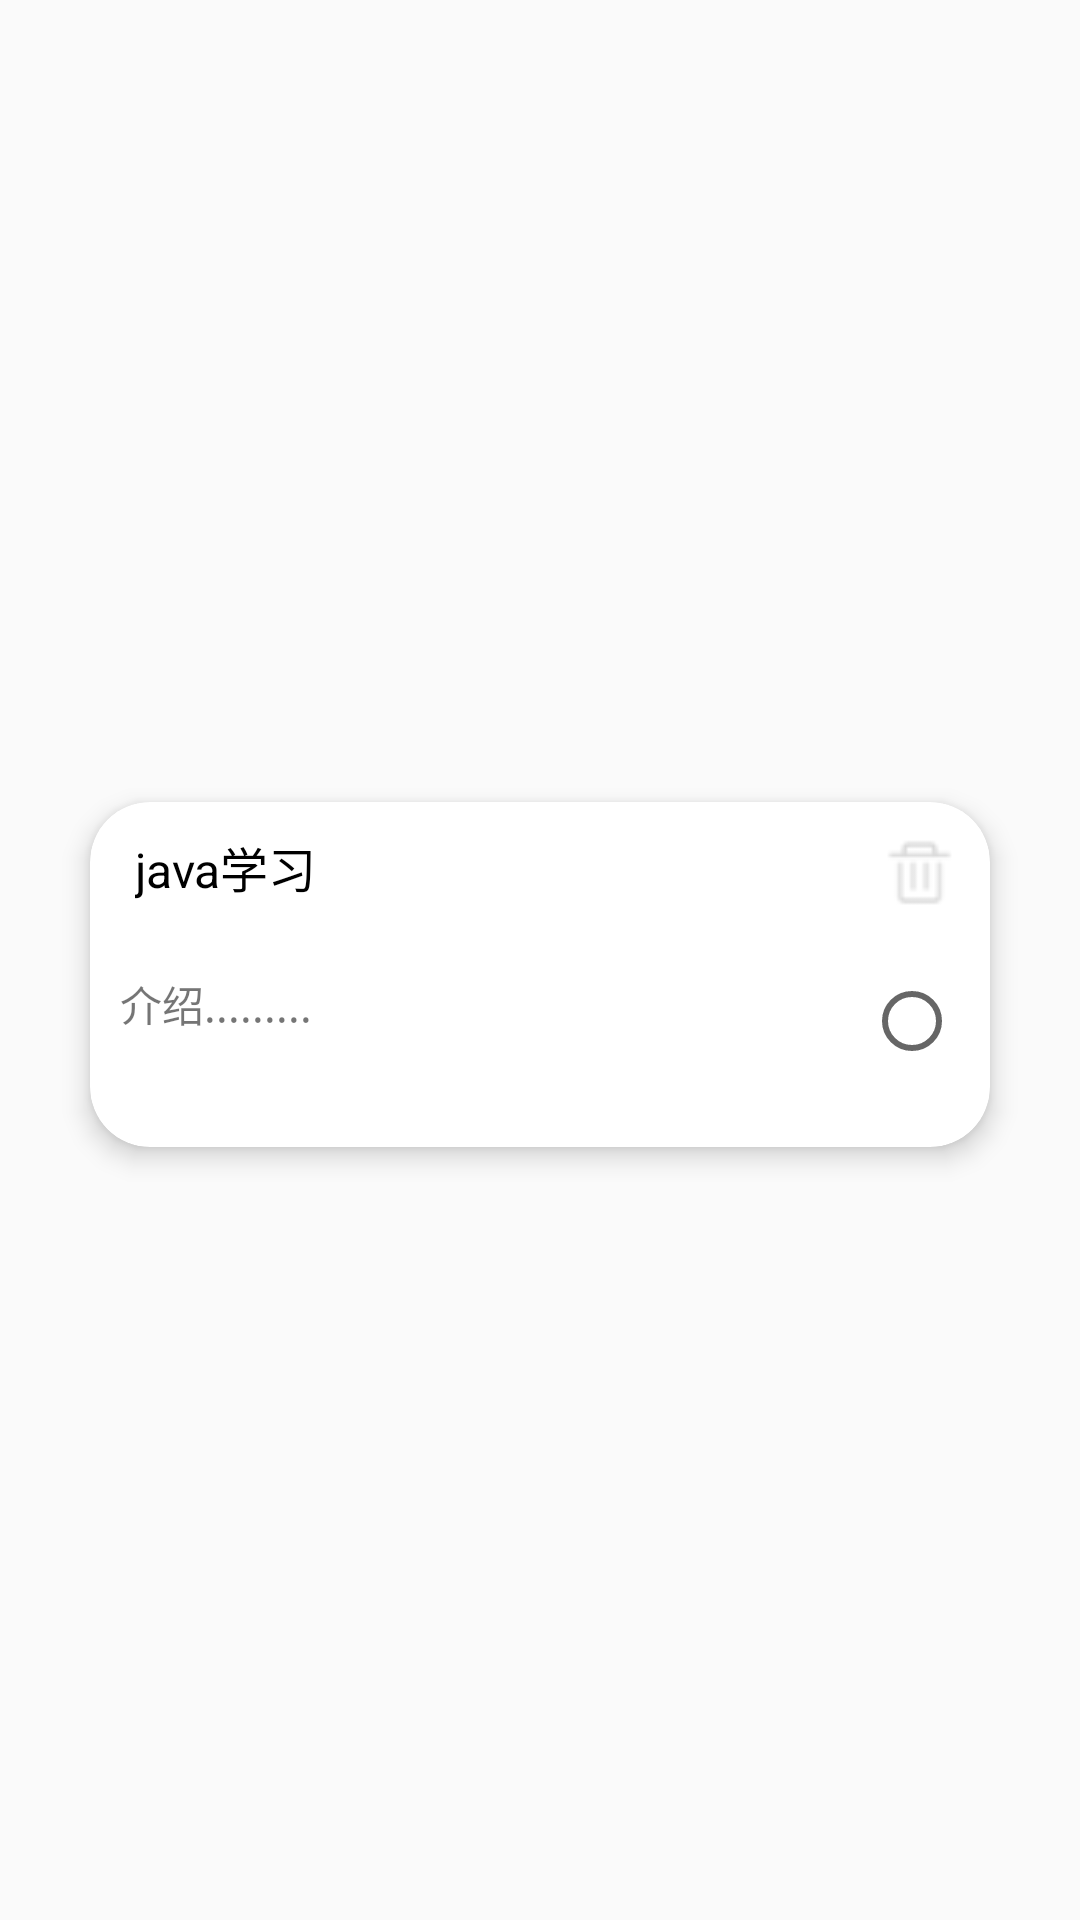

Named icons in this screenshot (1080×1920) and their centers, (x=x, y=y):
delete: (x=919, y=873)
